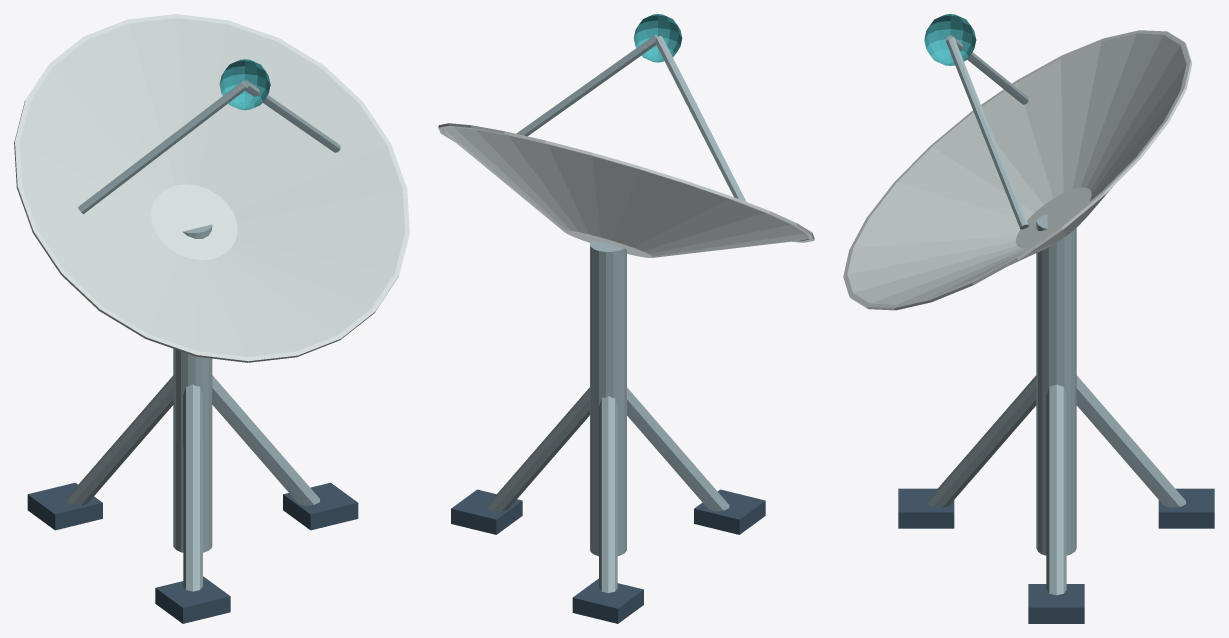
File: orbital-field-station-survey-communications-dish__146.glb
3 views of the same model, side by side, from view 1: azimuth 30°, elevation 25°; view 2: azimuth 150°, elevation 25°; view 3: azimuth 270°, elevation 25° (orthographic). The views are drawn at different scales.
Parts seen in each view (by area): view 1: shell, metal, dark, accent; view 2: shell, metal, dark, accent; view 3: shell, metal, dark, accent.
Part boxes in pixels (x1,y1,x2,y2): shell: (14,14,409,362); metal: (65,80,340,591); dark: (27,482,358,623); accent: (219,59,270,110); shell: (438,123,814,257); metal: (487,34,746,593); dark: (451,489,765,623); accent: (633,14,682,62); shell: (843,30,1192,310); metal: (927,35,1185,595); dark: (898,488,1214,623); accent: (924,14,976,65).
Bounding box in the file's own units: 2.1 × 2.96 × 1.85.
